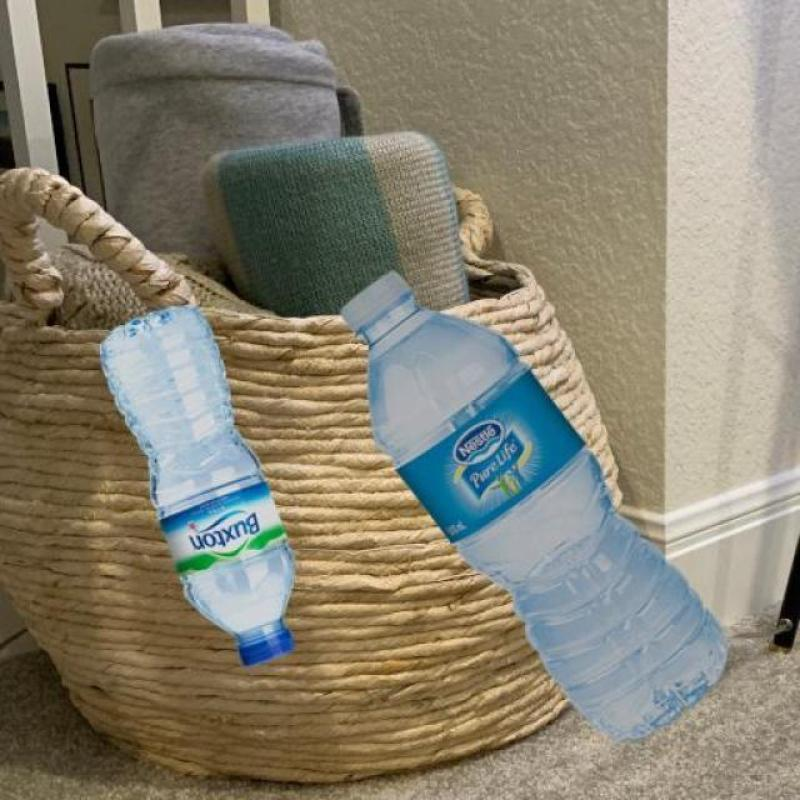botella: (341, 267, 728, 748), (96, 309, 296, 665)
